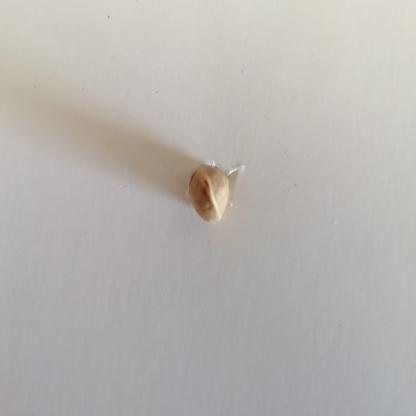pistachio: (189, 157, 248, 219)
